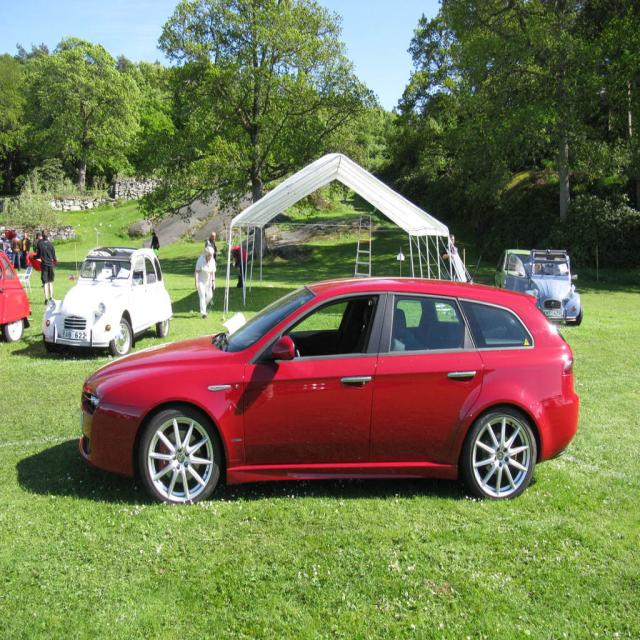car: (78, 252, 578, 499), (40, 239, 169, 354)
